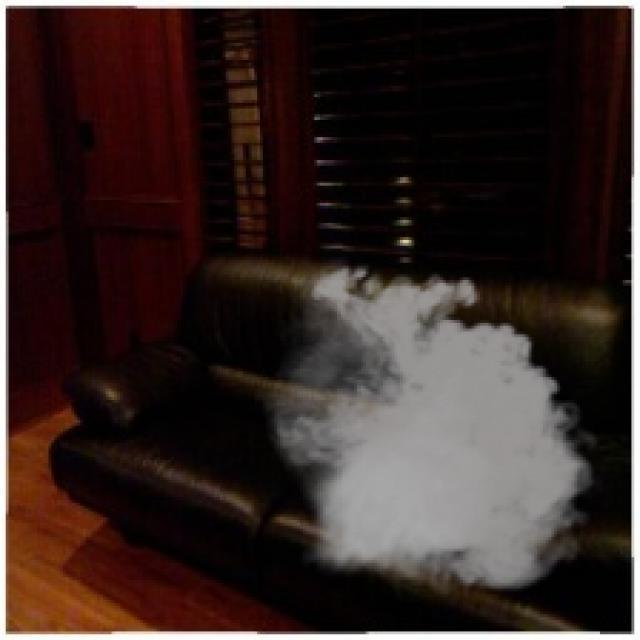Smoke: (254, 254, 606, 603)
